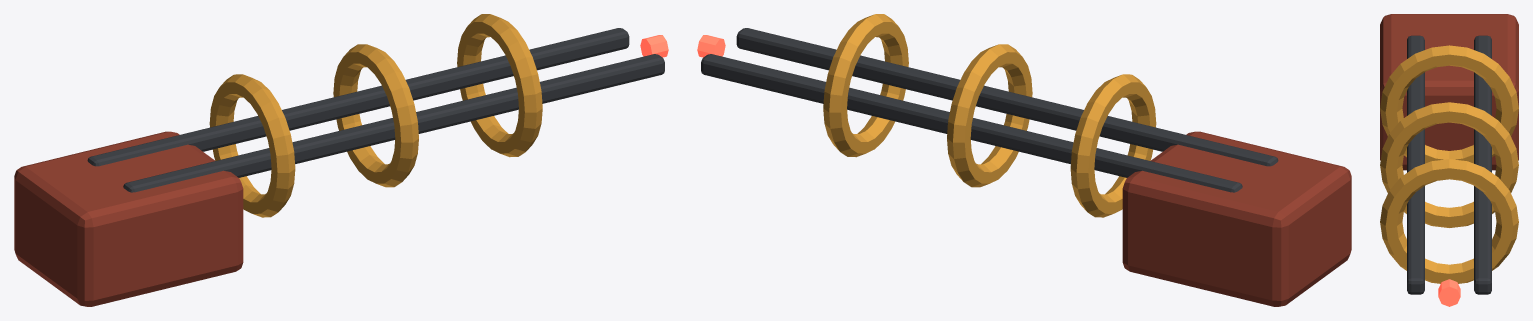
Rendered from driver-mk1.glb.
The picture shows the model from 3 angles, left to right: view 1: azimuth 30°, elevation 25°; view 2: azimuth 150°, elevation 25°; view 3: azimuth 270°, elevation 25°; orthographic projection. The views are drawn at different scales.
Parts seen in each view (by area): view 1: driver_mk1 body; view 2: driver_mk1 body; view 3: driver_mk1 body.
Part boxes in pixels (x1,y1,x2,y2): driver_mk1 body: (14, 14, 668, 306); driver_mk1 body: (697, 14, 1351, 306); driver_mk1 body: (1380, 14, 1518, 306).
Size of the model in its own units: 2.99 by 0.73 by 0.62.
